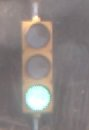Green: (17, 13, 58, 115)
